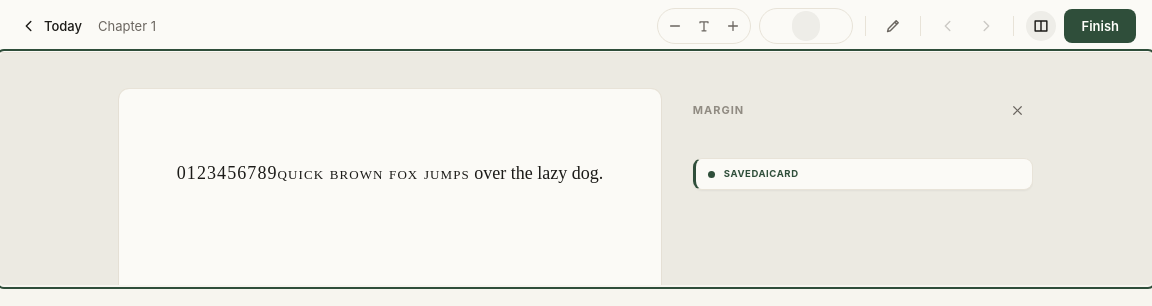
Test: TextReader Companion Margin › renders a saved AI card distinctly (read-only, AI label)
Click the button with class "tl-kmark": (761, 174) [693,158,1033,190]
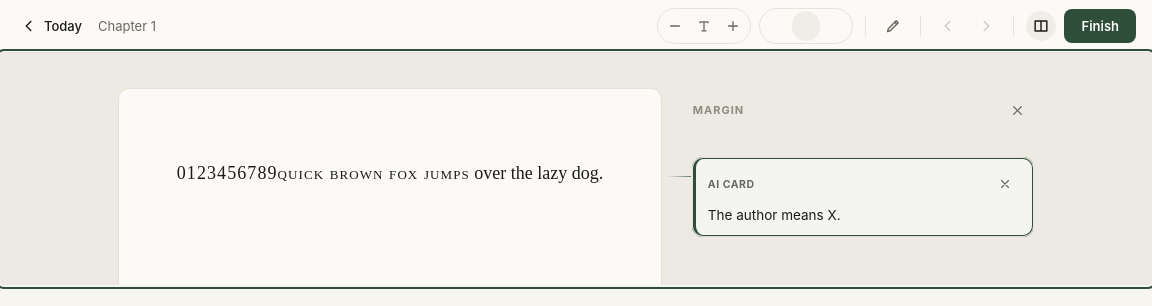
Now the text "AI card" is shown, box [708,178,755,191]
Now the text "The author means X." is shown, box [708,207,840,223]
Now the element with class "tl-card" is shown, box [693,158,1033,236]
